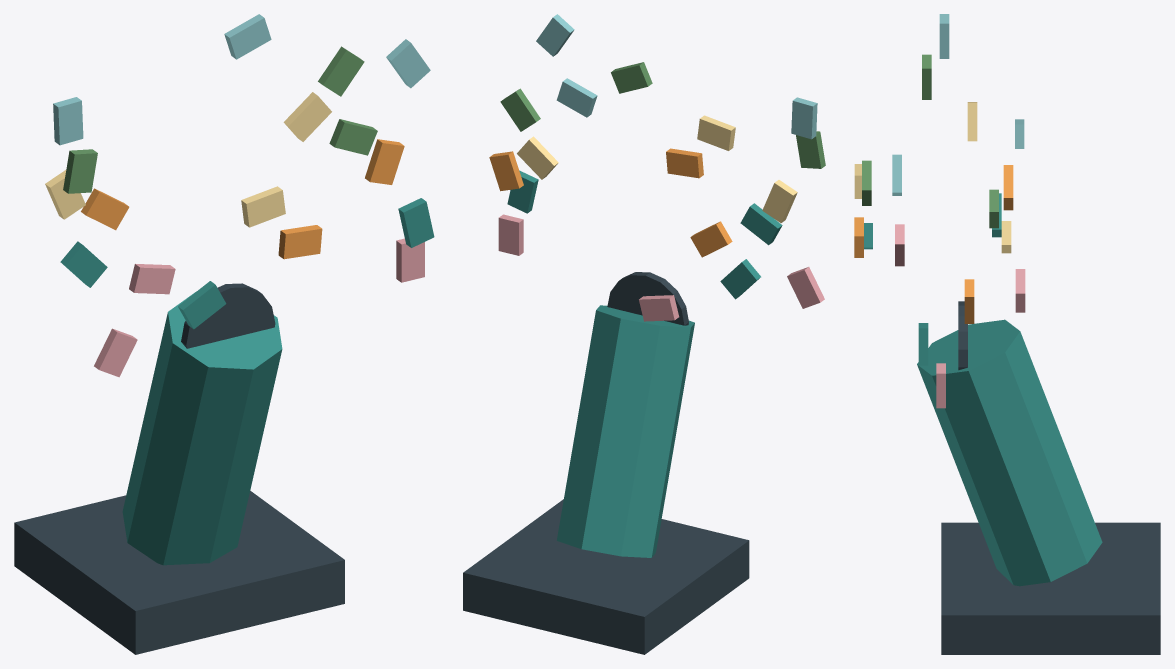
File: confetti_cannon.glb
3 renders of one model, left to right at view 1: azimuth 30°, elevation 25°; view 2: azimuth 150°, elevation 25°; view 3: azimuth 270°, elevation 25°, orthographic. The views are drawn at different scales.
Parts seen in each view (by area): view 1: base, barrel, mouth, confetti.004, confetti.015, confetti.011, confetti.017, confetti.008, confetti.007, confetti.002, confetti.012, confetti.013 (+9 smaller); view 2: base, barrel, mouth, confetti, confetti.015, confetti.008, confetti.011, confetti.017, confetti.002, confetti.012, confetti.007, confetti.003 (+9 smaller); view 3: barrel, base, mouth, confetti.014, confetti.008, confetti.017, confetti.006, confetti.013, confetti, confetti.004, confetti.010.
Part boxes in pixels (<box>): base: <box>14,491,344,654</box>; barrel: <box>122,291,282,565</box>; mouth: <box>181,283,275,348</box>; confetti.004: <box>63,149,97,193</box>; confetti.015: <box>241,186,285,227</box>; confetti.011: <box>224,14,271,59</box>; confetti.017: <box>53,97,83,145</box>; confetti.008: <box>365,139,404,184</box>; confetti.007: <box>178,281,226,329</box>; confetti.002: <box>278,225,322,259</box>; confetti.012: <box>94,328,137,377</box>; confetti.013: <box>398,198,434,247</box>; base: <box>463,499,749,654</box>; barrel: <box>557,305,694,557</box>; mouth: <box>607,272,688,325</box>; confetti: <box>498,214,523,255</box>; confetti.015: <box>697,115,735,150</box>; confetti.008: <box>489,151,523,191</box>; confetti.011: <box>556,78,597,117</box>; confetti.017: <box>791,97,817,139</box>; confetti.002: <box>666,148,703,178</box>; confetti.012: <box>787,267,824,308</box>; confetti.007: <box>740,203,782,245</box>; confetti.003: <box>517,136,558,179</box>; barrel: <box>917,319,1102,586</box>; base: <box>941,522,1160,654</box>; mouth: <box>958,301,967,370</box>; confetti.014: <box>1003,165,1013,210</box>; confetti.008: <box>964,279,974,323</box>; confetti.017: <box>939,14,949,58</box>; confetti.006: <box>1015,269,1025,312</box>; confetti.013: <box>918,323,928,365</box>; confetti: <box>936,363,945,408</box>; confetti.004: <box>922,54,931,99</box>; confetti.010: <box>862,160,871,205</box>.
Bounding box in the file's own units: 1.39 × 2.08 × 1.12.
